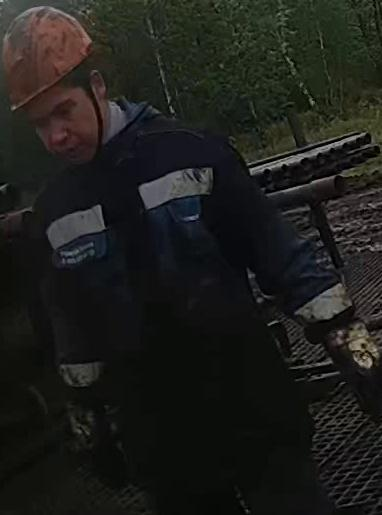gloves: (288, 278, 382, 416), (51, 359, 134, 494)
helmet: (1, 5, 93, 112)
vest: (31, 129, 265, 385)
